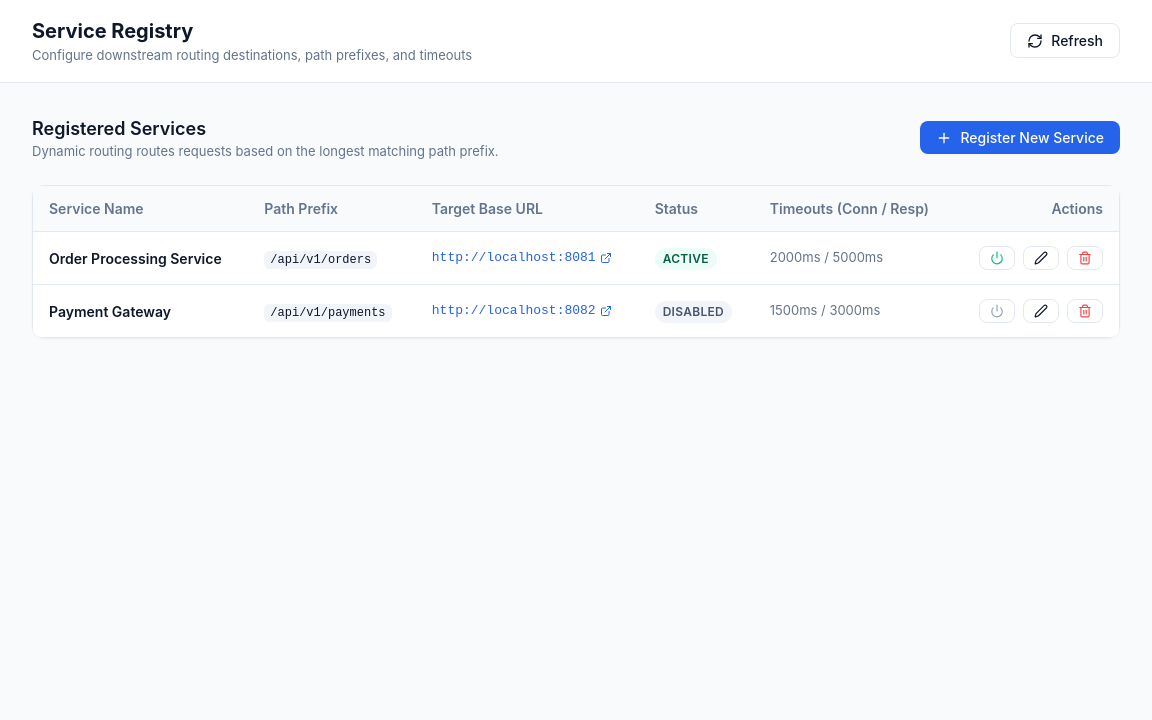
Test case: ServiceRegistryPage Component › opens registration modal when Register New Service button is clicked
Expected: the text "Order Processing Service" is shown, [33,232,248,284]
Click the button "Register New Service". click: (1020, 138)
box: [920,121,1120,154]
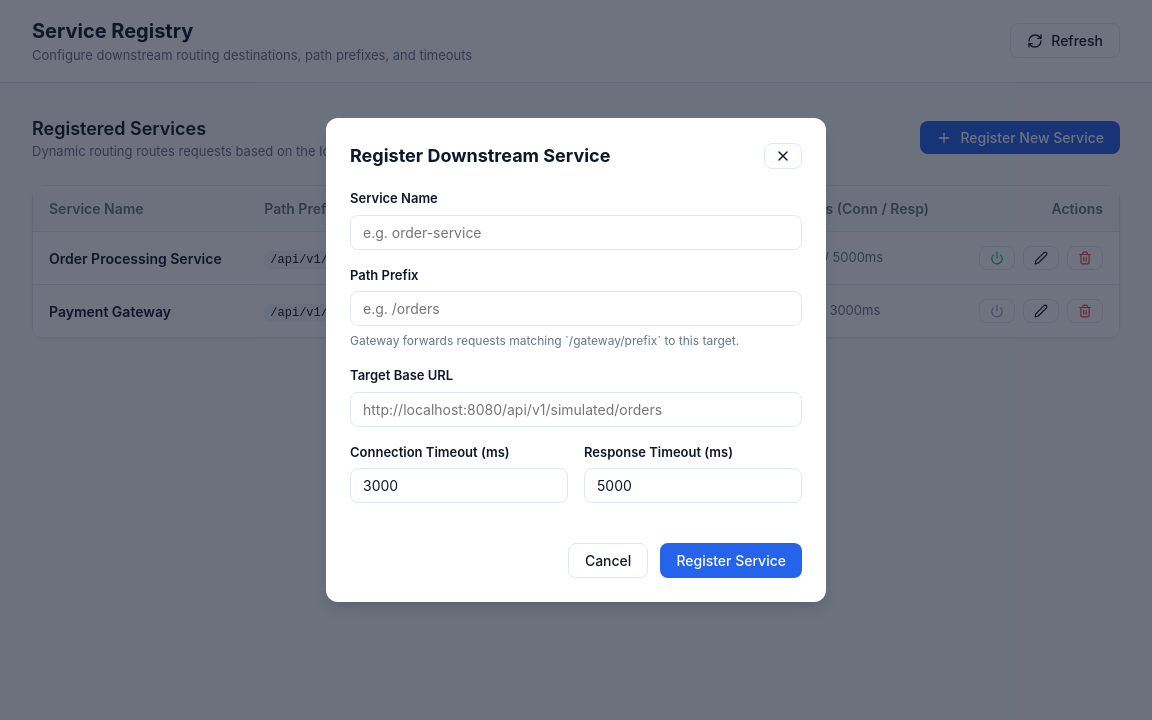
Expected: the heading "Register Downstream Service" is shown, [350,142,610,169]
Expected: the field labelled "Service Name" is shown, [350,214,802,250]
Expected: the field labelled "Path Prefix" is shown, [350,291,802,326]
